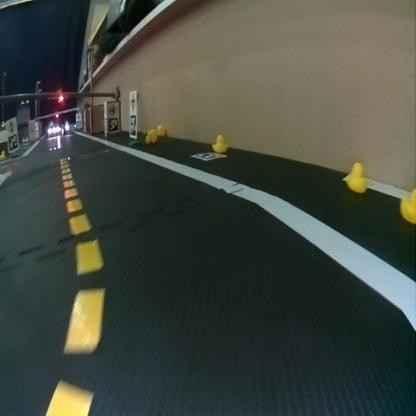Duckie: (348, 162, 366, 192), (400, 186, 414, 220), (212, 134, 227, 151), (145, 129, 155, 141), (156, 124, 164, 134)
Intersection sign: (108, 102, 118, 116), (130, 93, 135, 112)
QR code: (191, 152, 226, 160), (108, 117, 118, 130), (130, 115, 135, 134)
Traffic light: (57, 94, 63, 102)
